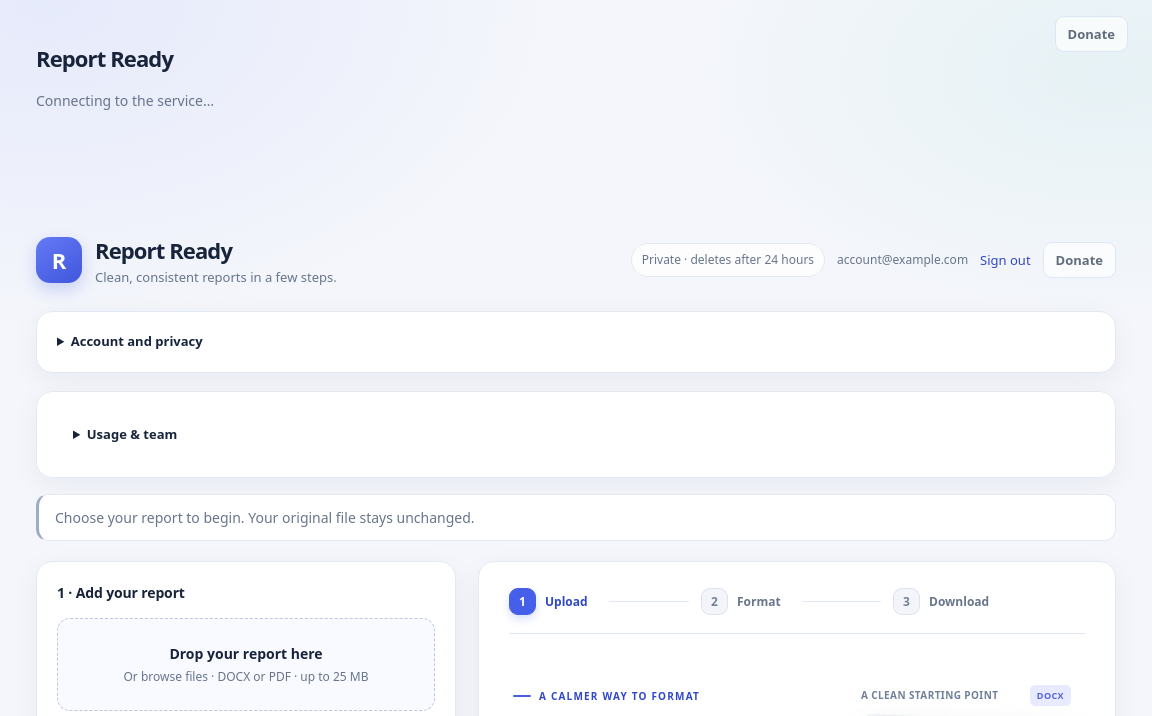
Test: report workflow › lets a signed-in user confirm account deletion
Click the heading "Account and privacy" at x=137, y=341, box left=71, top=332, right=203, bottom=350
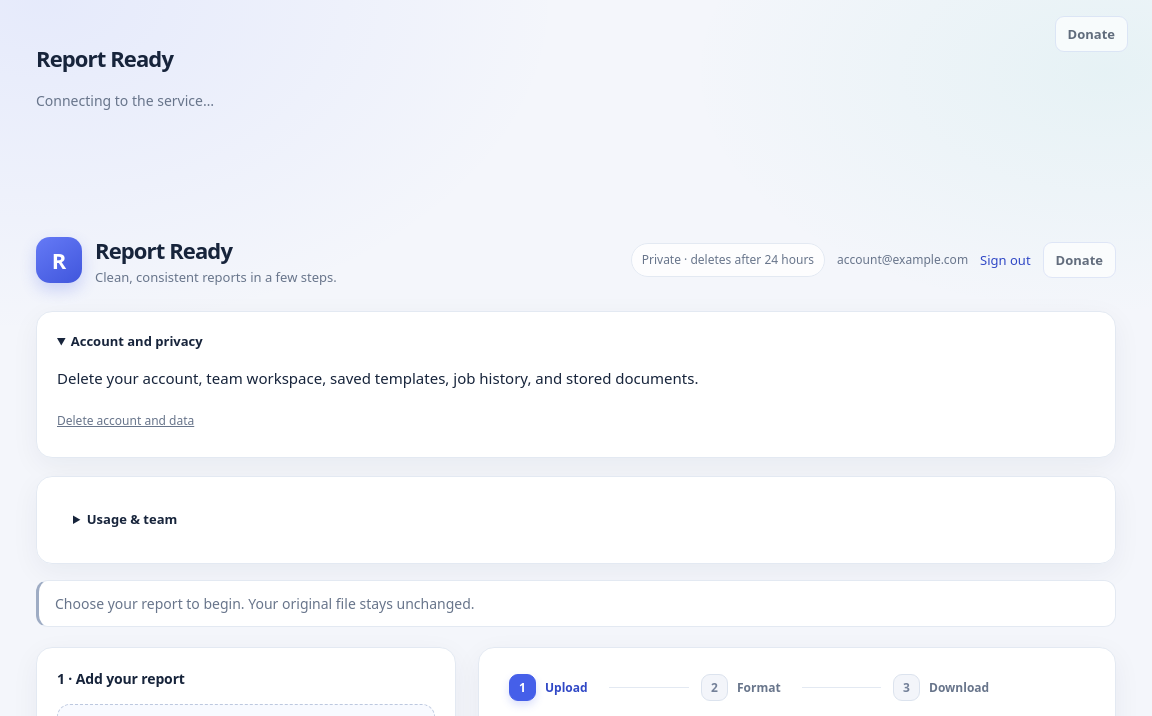
Click the button "Delete account and data" at x=126, y=420, box left=57, top=404, right=194, bottom=437
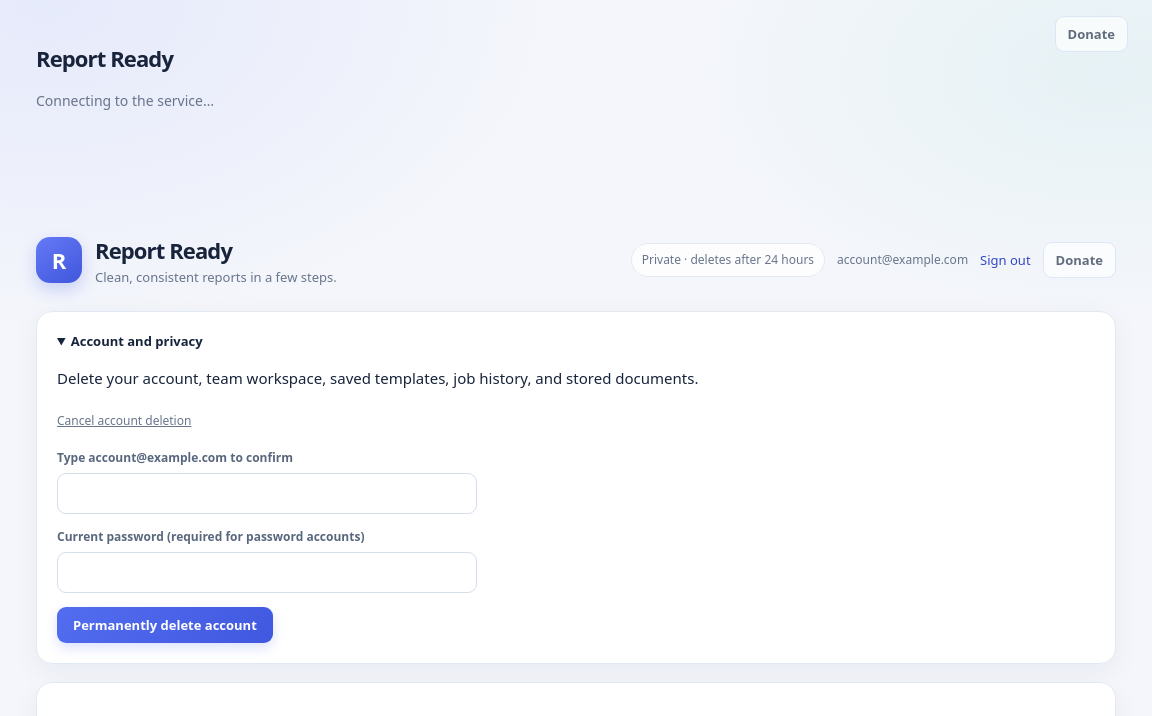
Type "account@example.com" into the field labelled "Type account@example.com to confirm" at x=267, y=494, box left=57, top=473, right=477, bottom=514
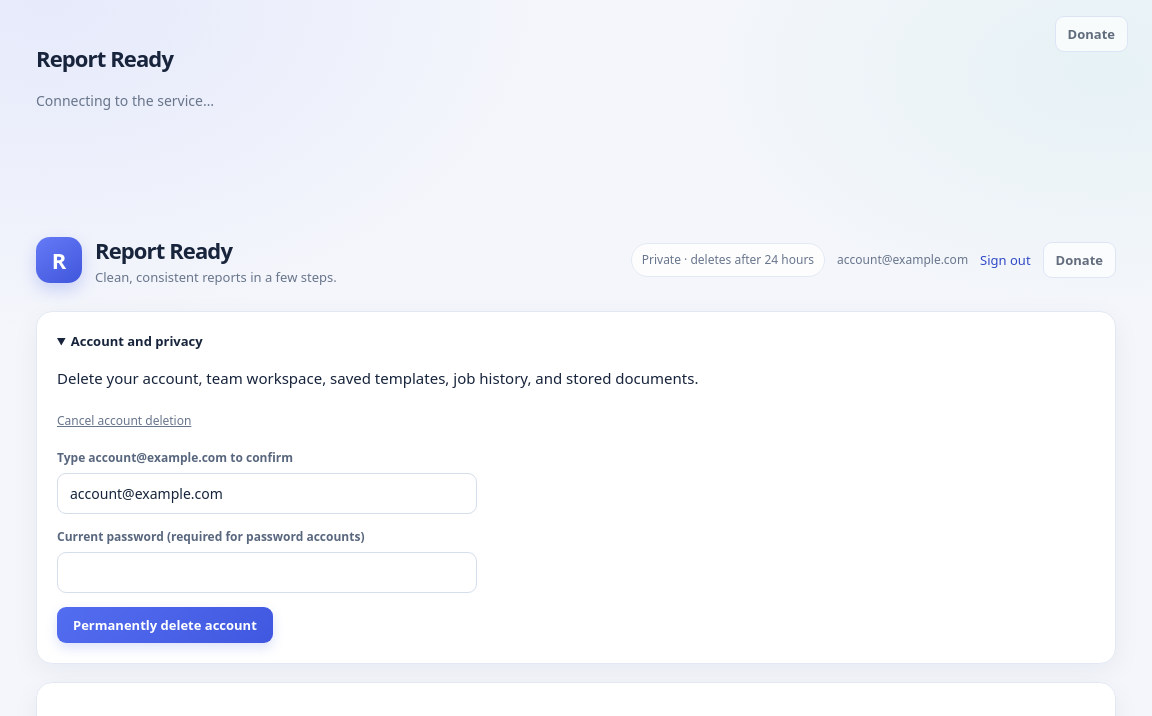
Click the button "Permanently delete account" at x=165, y=625, box left=57, top=607, right=273, bottom=643
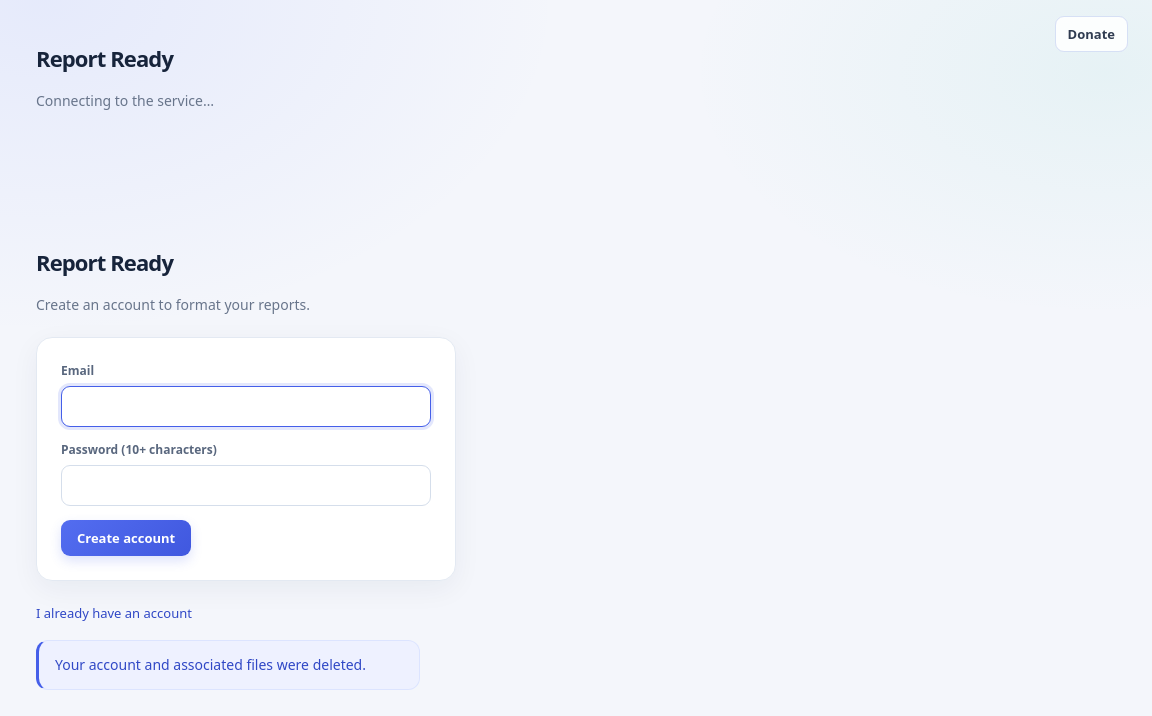
Expected: the text "Your account and associated files were deleted." is shown, left=36, top=640, right=420, bottom=690
